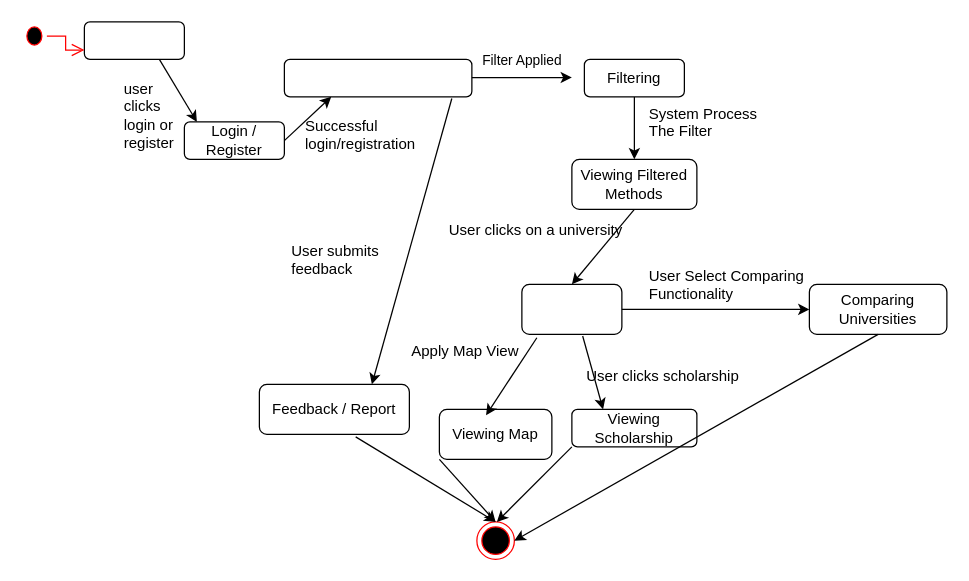
This 969x581 diagram has some shape labels left out. The box of each missing label's shape, as (x1, y1, x2, y2) in pixels:
Idle: (83, 21, 184, 59)
View Deails: (521, 283, 622, 334)
Viewing All Universities: (283, 58, 472, 97)
